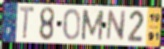2: (126, 10, 146, 45)
8: (39, 6, 56, 42)
M: (80, 8, 105, 42)
N: (105, 10, 128, 42)
O: (62, 8, 81, 41)
T: (18, 5, 36, 41)
